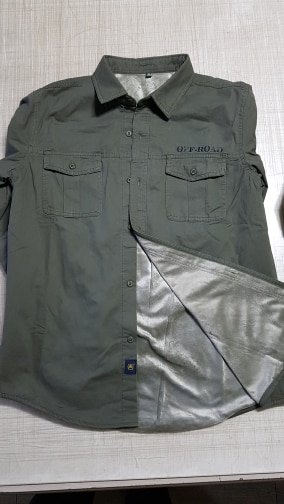shirts: (17, 56, 277, 412)
